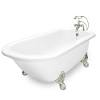bathub: (2, 25, 100, 98)
